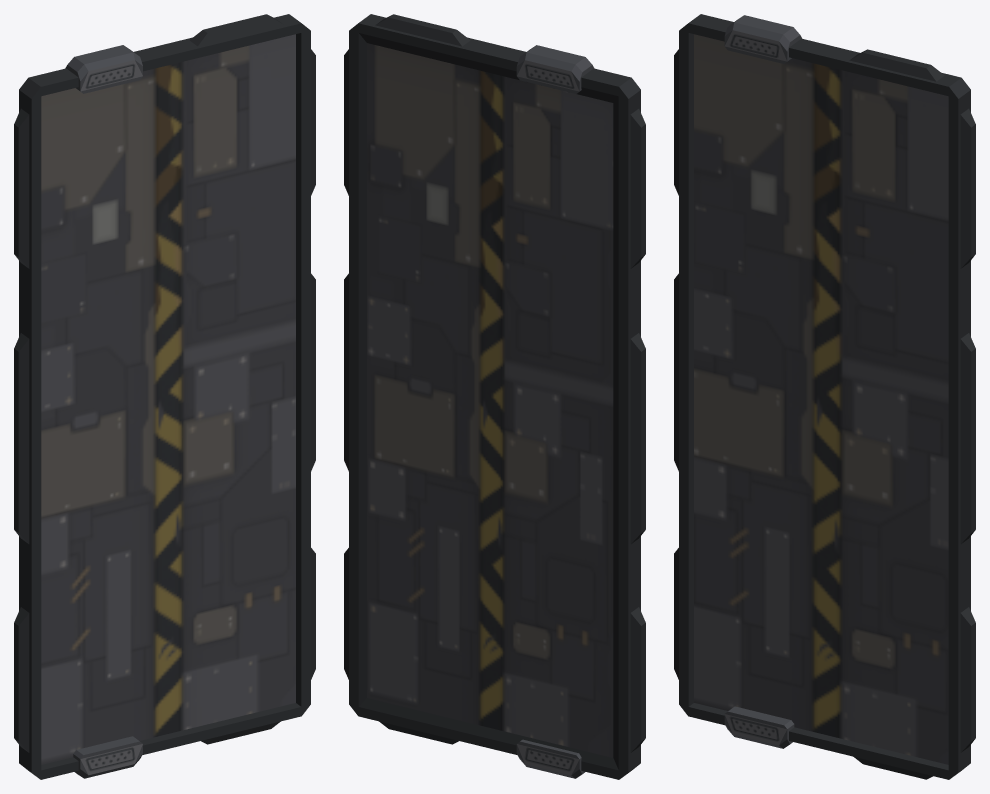
Rendered from SM_Prop_Billboard_Backing_Verticle_01.fbx.
The picture shows the model from 3 angles, left to right: view 1: azimuth 30°, elevation 25°; view 2: azimuth 150°, elevation 25°; view 3: azimuth 330°, elevation 25°; orthographic projection.
Visible parts, largest first — view 1: SM_Prop_Billboard_Backing_Verticle_01; view 2: SM_Prop_Billboard_Backing_Verticle_01; view 3: SM_Prop_Billboard_Backing_Verticle_01.
Boxes of the visible parts, box(x1,y1,x2,y2) form: SM_Prop_Billboard_Backing_Verticle_01: box(14, 14, 315, 779); SM_Prop_Billboard_Backing_Verticle_01: box(344, 14, 645, 779); SM_Prop_Billboard_Backing_Verticle_01: box(674, 14, 975, 779).
Size of the model in its own units: 380 by 872 by 35.2.
